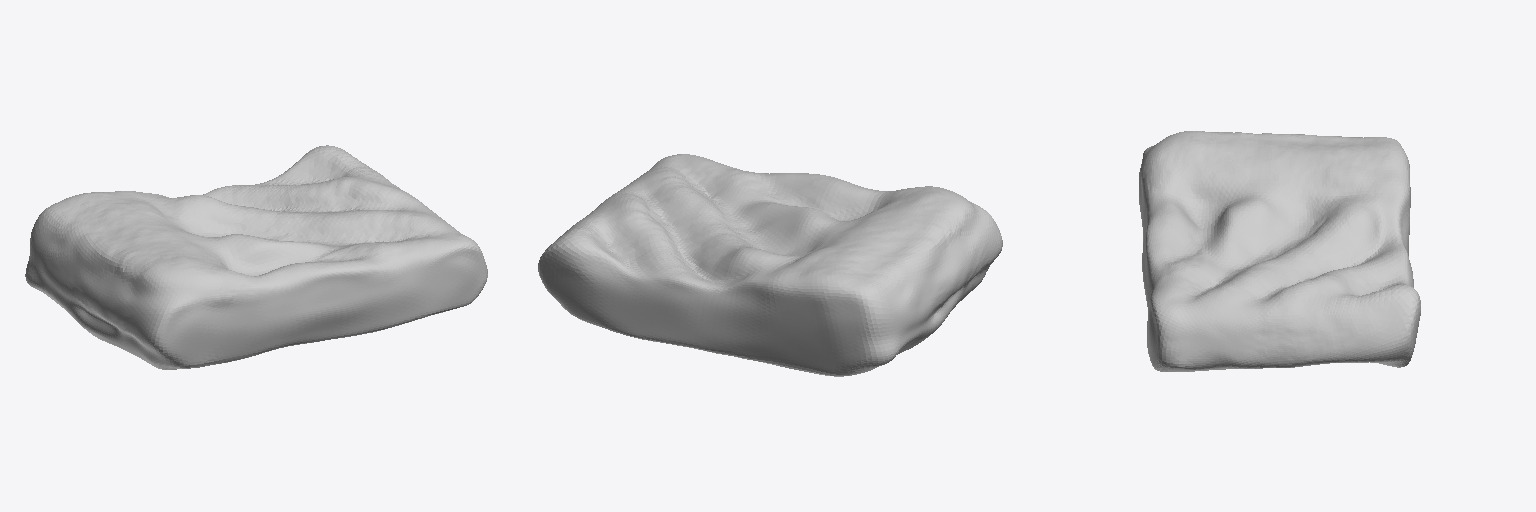
Rendered from spek.OBJ.
3 views of the same model, side by side, from view 1: azimuth 30°, elevation 25°; view 2: azimuth 150°, elevation 25°; view 3: azimuth 270°, elevation 25° (orthographic).
Visible parts, largest first — view 1: Group1; view 2: Group1; view 3: Group1.
Part boxes in pixels (x1,y1,x2,y2): Group1: (25,145,487,369); Group1: (538,154,1002,376); Group1: (1139,131,1420,371).
Size of the model in its own units: 57.2 by 17.4 by 39.45.